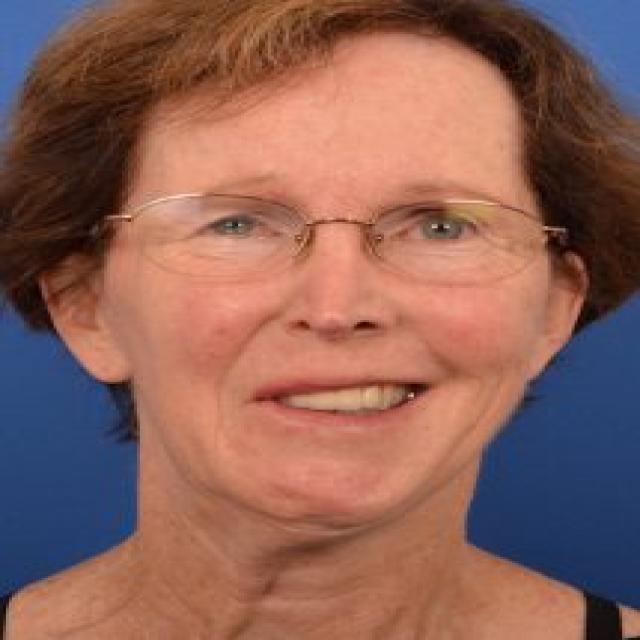stroke_face: (100, 80, 590, 532)
